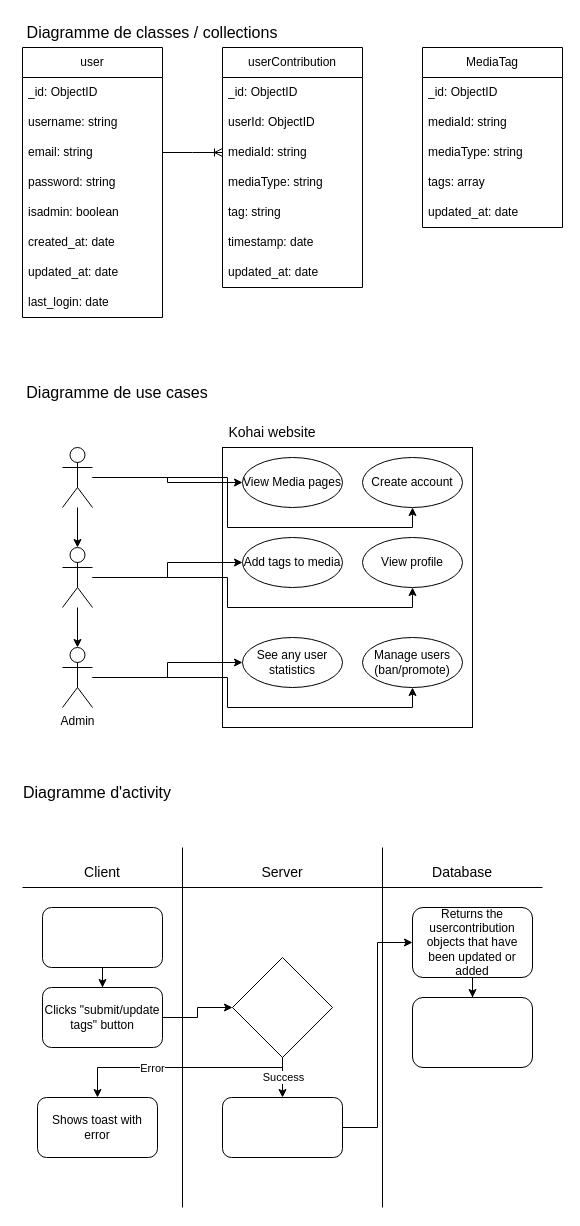
Some shapes in this 580 by 1226 pixel diagram are drawn without their labels. The shapes that lost their labels are listed below. From the top down, each one's centre as x and y in pixels, then its label:
pixel 77 477: User (without account)
pixel 77 577: User (with account)
pixel 102 937: Inputs 3 words in a media page
pixel 282 1007: Verifies input sanitizes if needed
pixel 472 1032: Updates the MediaTag object for the given mediaId
pixel 282 1127: Checks the three words of the user on the current mediaId for duplicates etc...
